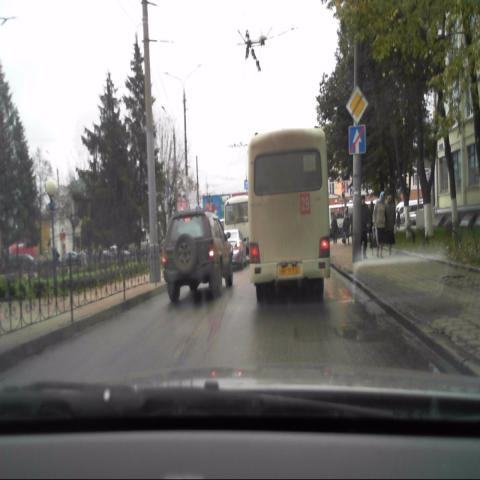2_2: (346, 85, 368, 126)
5_6: (348, 125, 366, 153)
